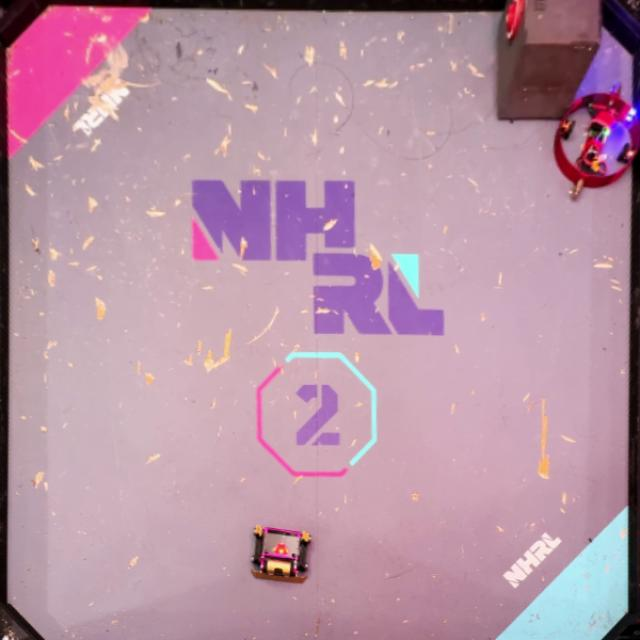robot: (496, 0, 601, 119), (552, 81, 640, 199), (250, 524, 312, 583)
